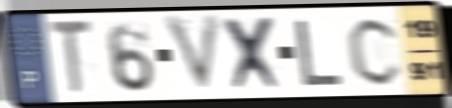6: (105, 20, 156, 94)
C: (346, 14, 405, 88)
L: (294, 18, 346, 88)
T: (46, 17, 95, 98)
V: (161, 11, 225, 97)
X: (221, 14, 287, 93)
